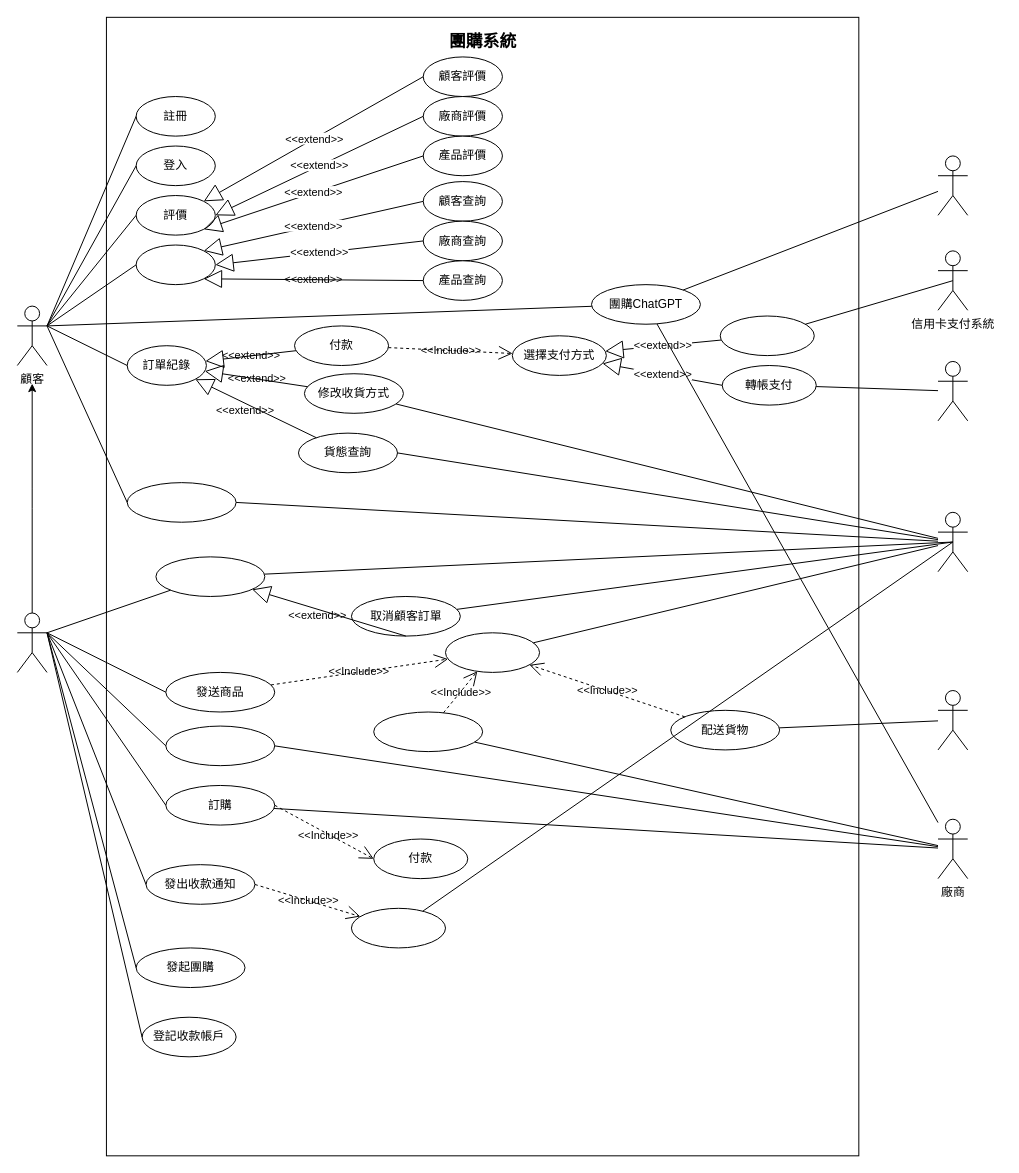
Image size: 1019x1173. Some labels were removed from this diagram. Each missing label, with the box of its shape:
主購: (16, 612, 47, 672)
信用卡支付: (719, 315, 814, 356)
出貨: (373, 711, 483, 752)
加入團購: (126, 482, 236, 522)
取得團購名單: (350, 907, 446, 948)
團購ChatGPT系統: (937, 155, 968, 215)
團購名單: (937, 511, 968, 572)
更新貨態: (445, 632, 540, 672)
查看團購名單: (155, 556, 265, 596)
查詢: (135, 244, 215, 285)
議價: (165, 725, 275, 766)
配銷商: (937, 690, 968, 750)
銀行系統: (937, 360, 968, 421)
